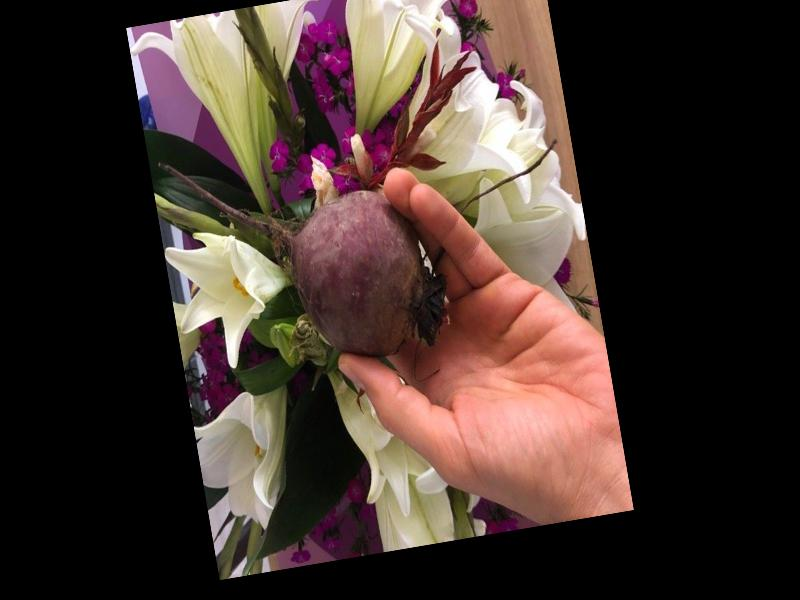Beet: (159, 117, 454, 387)
